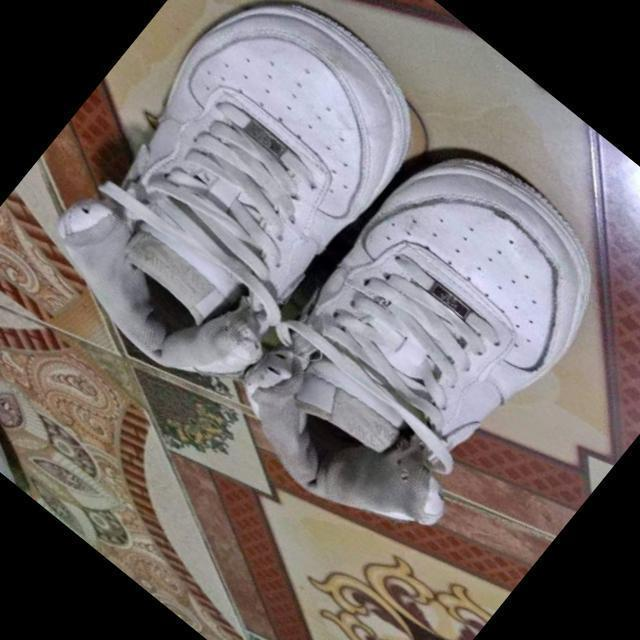nike fake air force: (203, 111, 640, 571), (24, 0, 458, 415)
